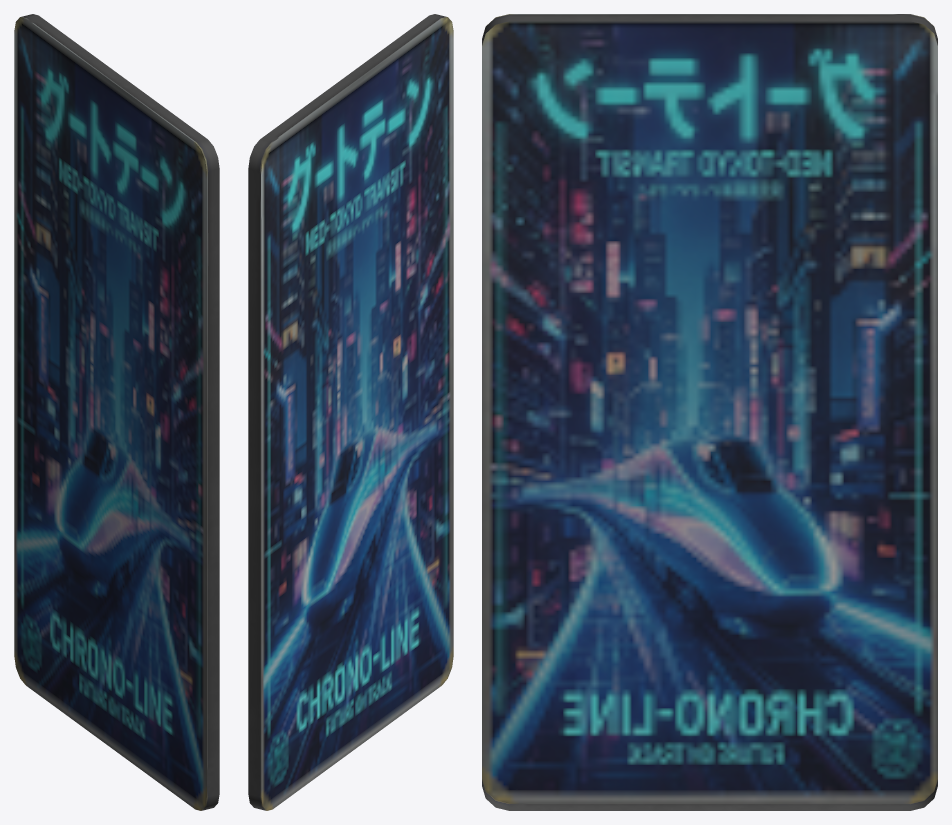
File: CP_Posters_01.fbx
3 views of the same model, side by side, from view 1: azimuth 30°, elevation 25°; view 2: azimuth 150°, elevation 25°; view 3: azimuth 270°, elevation 25° (orthographic). The views are drawn at different scales.
Parts seen in each view (by area): view 1: CP_Posters_01; view 2: CP_Posters_01; view 3: CP_Posters_01.
Boxes of the visible parts, x1,y1,x2,y2 form: CP_Posters_01: (14, 14, 219, 810); CP_Posters_01: (248, 14, 453, 810); CP_Posters_01: (482, 14, 937, 810).
Bounding box in the file's own units: 1.68 × 83.85 × 43.88.
